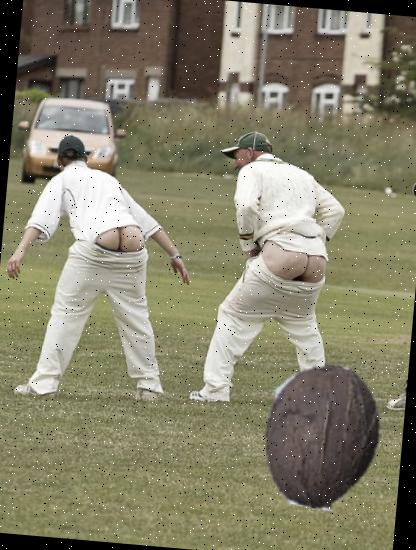Cocos: (244, 358, 402, 516)
